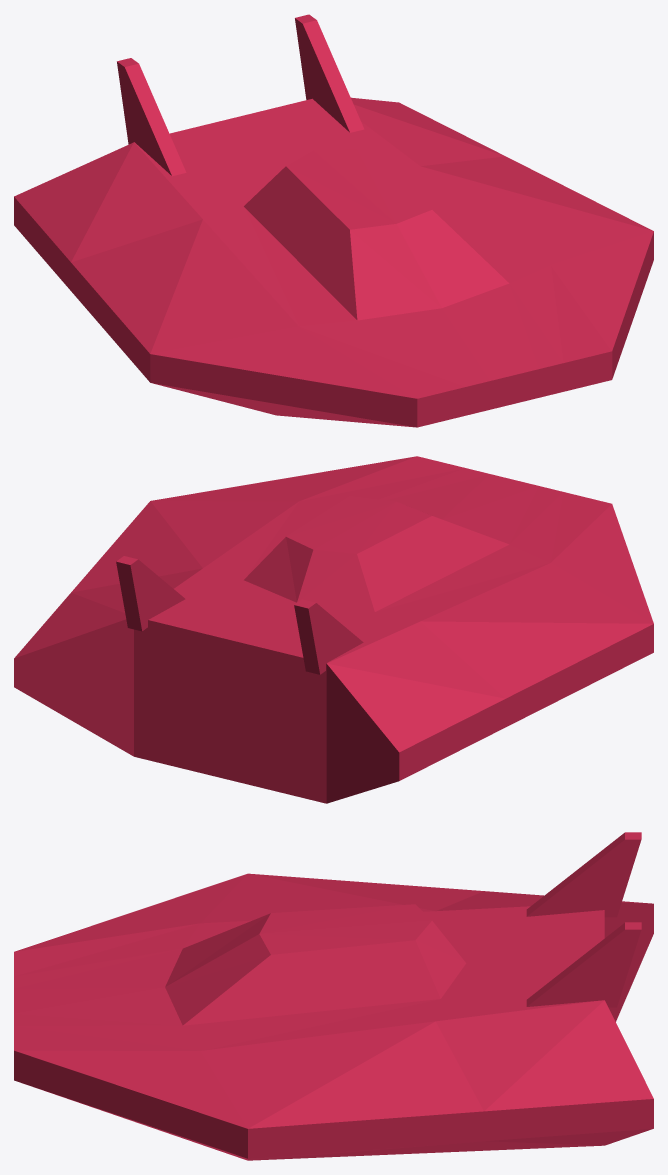
File: alien.dae
3 views of the same model, one above another, from view 1: azimuth 30°, elevation 25°; view 2: azimuth 150°, elevation 25°; view 3: azimuth 270°, elevation 25° (orthographic). The views are drawn at different scales.
Visible parts, largest first — view 1: Cube; view 2: Cube; view 3: Cube.
Part boxes in pixels (x1,y1,x2,y2): Cube: (14, 14, 653, 427); Cube: (14, 456, 653, 803); Cube: (14, 832, 653, 1160).
Bounding box in the file's own units: 0.0776 × 0.0822 × 0.0306.
